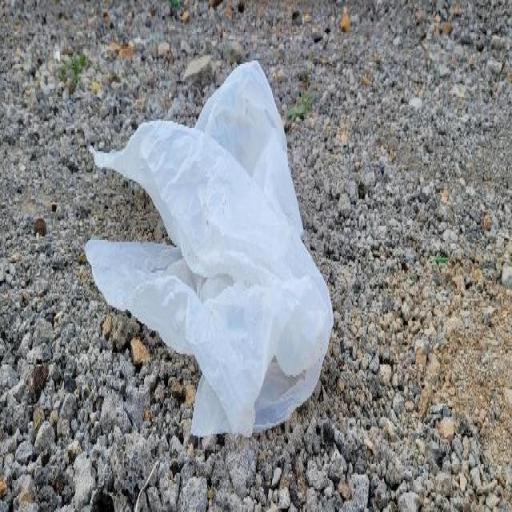plastic-bag: (85, 56, 336, 442)
